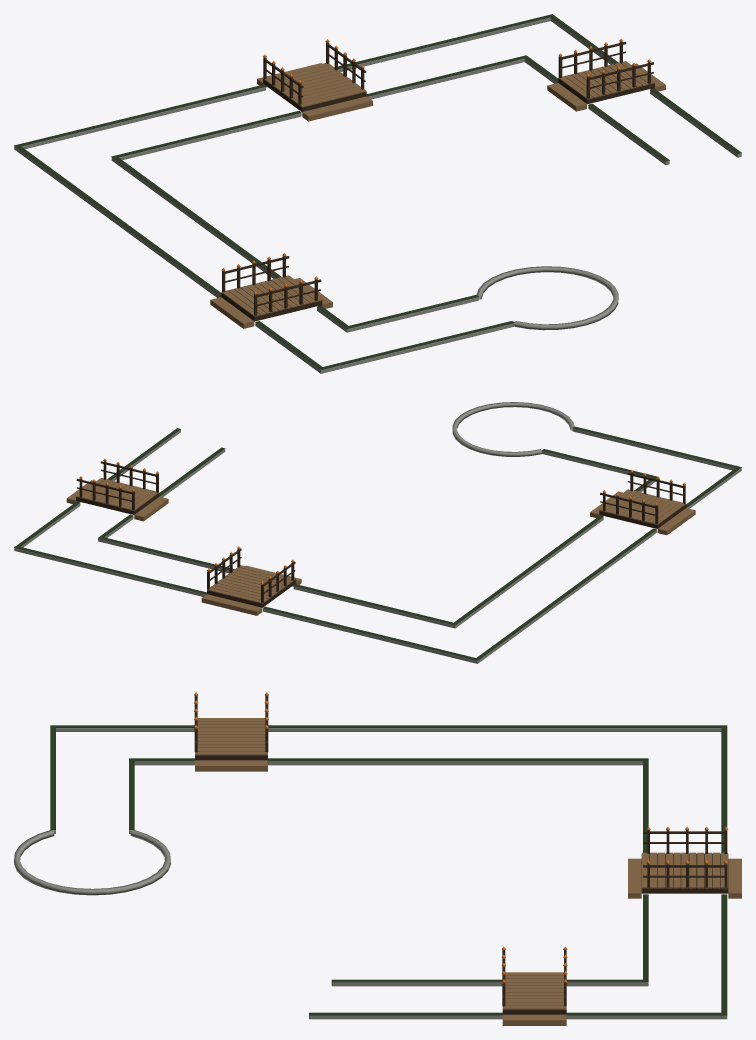
The model's file is hg-moat.glb.
The picture shows the model from 3 angles, top to bottom: view 1: azimuth 30°, elevation 25°; view 2: azimuth 150°, elevation 25°; view 3: azimuth 270°, elevation 25°; orthographic projection. The views are drawn at different scales.
Visible parts, largest first — view 1: hg-moat; view 2: hg-moat; view 3: hg-moat.
Part boxes in pixels (x1,y1,x2,y2): hg-moat: (14, 14, 741, 373); hg-moat: (14, 402, 741, 663); hg-moat: (14, 692, 741, 1025).
Bounding box in the file's own units: 31.4 × 1.85 × 31.94.
